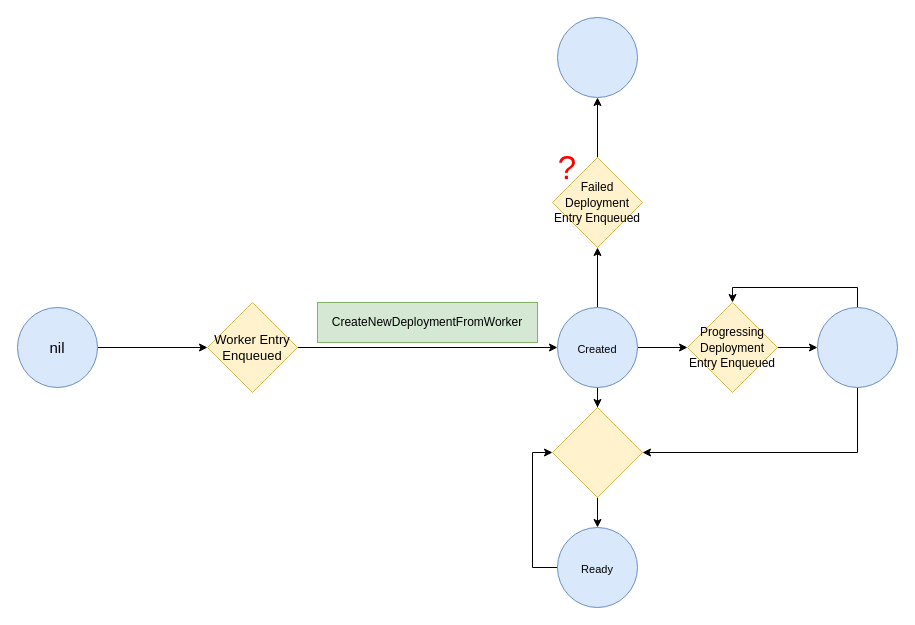
This 915x625 diagram has some shape labels left out. The centre of each missing label's shape, as x and y in pixels:
"Failed" goes at point 597,57.
"Progressing" goes at point 857,347.
"Ready Deployment Entry Enqueued" goes at point 597,452.
